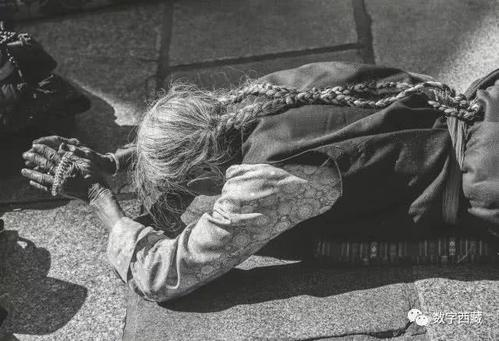falling: (7, 28, 498, 311)
